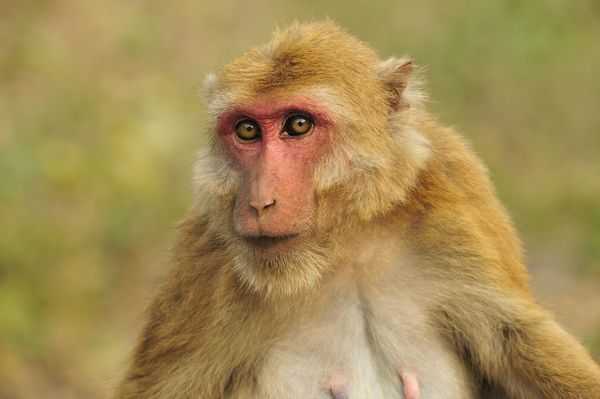monkey: (81, 15, 600, 399)
